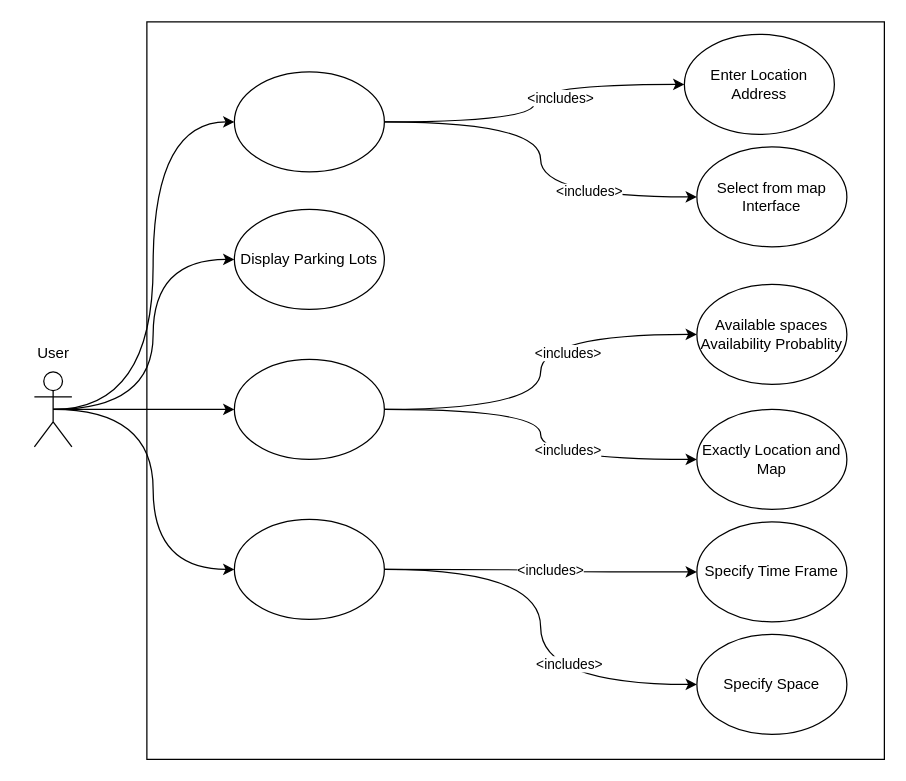
Some shapes in this 906 by 781 pixel diagram are drawn without their labels. Here are the shapes that lost their labels. From the top down, the centre of each, then its label:
At (x=308, y=121): "Search Parking Location".
At (x=52, y=409): "Actor".
At (x=308, y=408): "Provide Parking Lot Details".
At (x=308, y=568): "Book a Parking Space".
